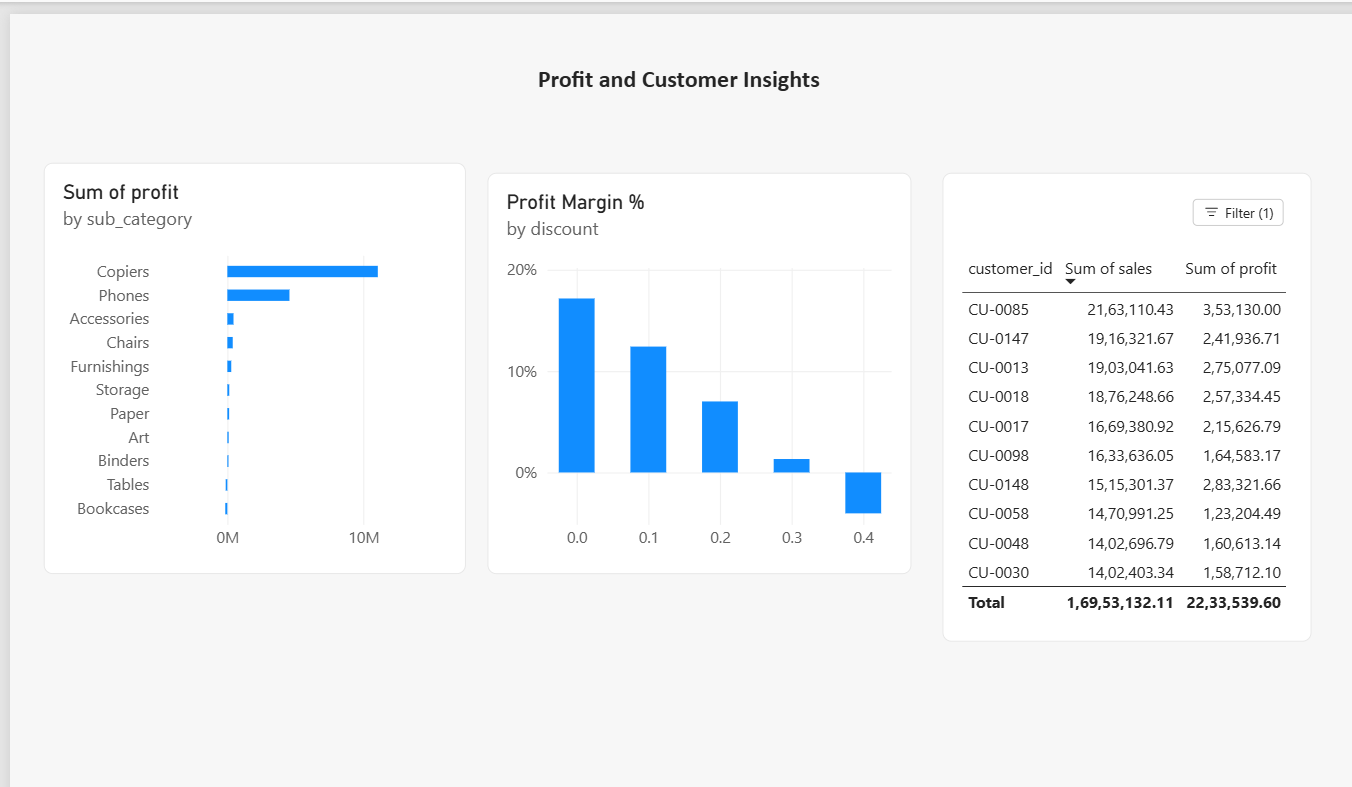

This screenshot's page, from the dashboard's own definition file:
{"tool":"powerbi","page":{"name":"Profit Analysis","canvas":[1920,1080],"ordinal":1},"visuals":[{"type":"clusteredBarChart","title":" Profit by sub_category","fields":{"Category":["superstore_clean.sub_category"],"Y":["Sum(superstore_clean.profit)"]},"box":[30,132.2,375.6,450],"z":0},{"type":"clusteredColumnChart","title":"Margin % by Discount","fields":{"Category":["superstore_clean.discount"],"Y":["superstore_clean.Profit Margin %"]},"box":[424.4,141.1,376.7,441.1],"z":1},{"type":"tableEx","title":"Top 10 Customers","fields":{"Values":["superstore_clean.customer_id","Sum(superstore_clean.sales)","Sum(superstore_clean.profit)"]},"box":[828.9,141.1,327.8,441.1],"z":2},{"type":"textbox","box":[463.3,26.7,262.2,72.2],"z":3}]}

Visuals, with their boxes on the page's 1920x1080 design canvas (x1, y1, x2, y2). These are canvas units, not pixel positions in the 1352x787 screenshot, which may show the page scaled, cropped or inside an application window:
" Profit by sub_category" clusteredBarChart: x1=30, y1=132, x2=406, y2=582
"Margin % by Discount" clusteredColumnChart: x1=424, y1=141, x2=801, y2=582
"Top 10 Customers" tableEx: x1=829, y1=141, x2=1157, y2=582
textbox: x1=463, y1=27, x2=726, y2=99
